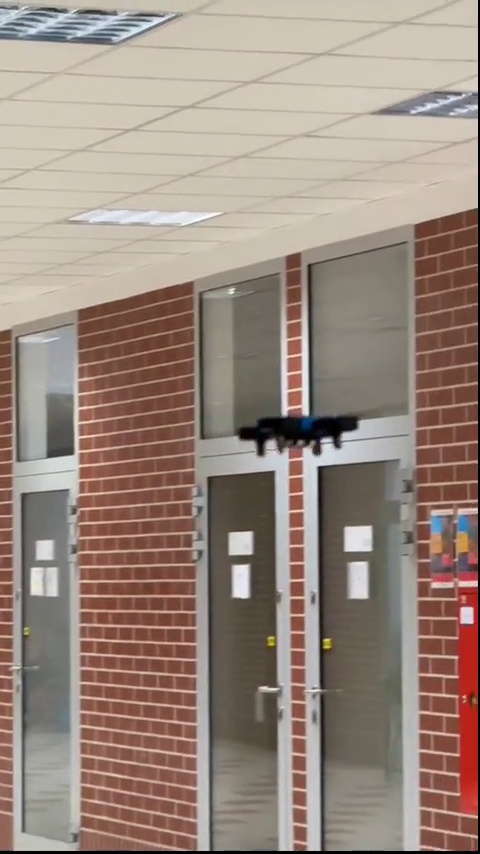drone: (239, 415, 358, 457)
